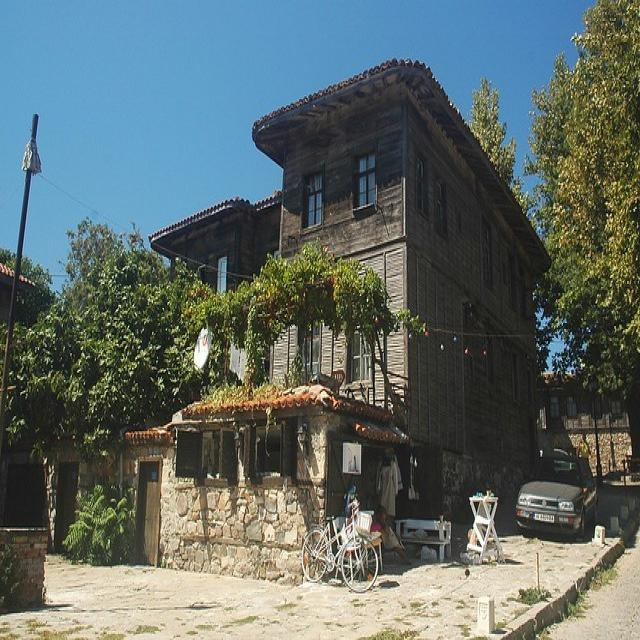Normal_building: (148, 54, 558, 551)
